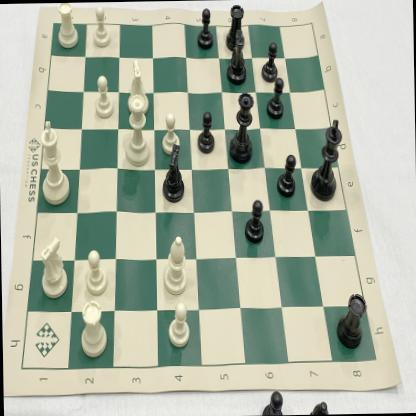bishop: (159, 233, 190, 297)
king: (36, 117, 72, 207), (308, 114, 344, 203)
knight: (33, 232, 71, 301), (158, 142, 190, 205), (126, 56, 150, 116), (226, 29, 246, 86)
pawn: (163, 298, 192, 352), (91, 74, 117, 121), (84, 246, 108, 296), (274, 151, 298, 200), (158, 107, 181, 155), (264, 75, 286, 121), (194, 110, 216, 156), (194, 4, 215, 51), (90, 6, 112, 50), (244, 197, 264, 245), (258, 39, 278, 82)
queen: (226, 89, 256, 169), (124, 92, 154, 168)
rook: (334, 287, 367, 352), (76, 298, 108, 359), (54, 2, 80, 50), (224, 4, 247, 54)
